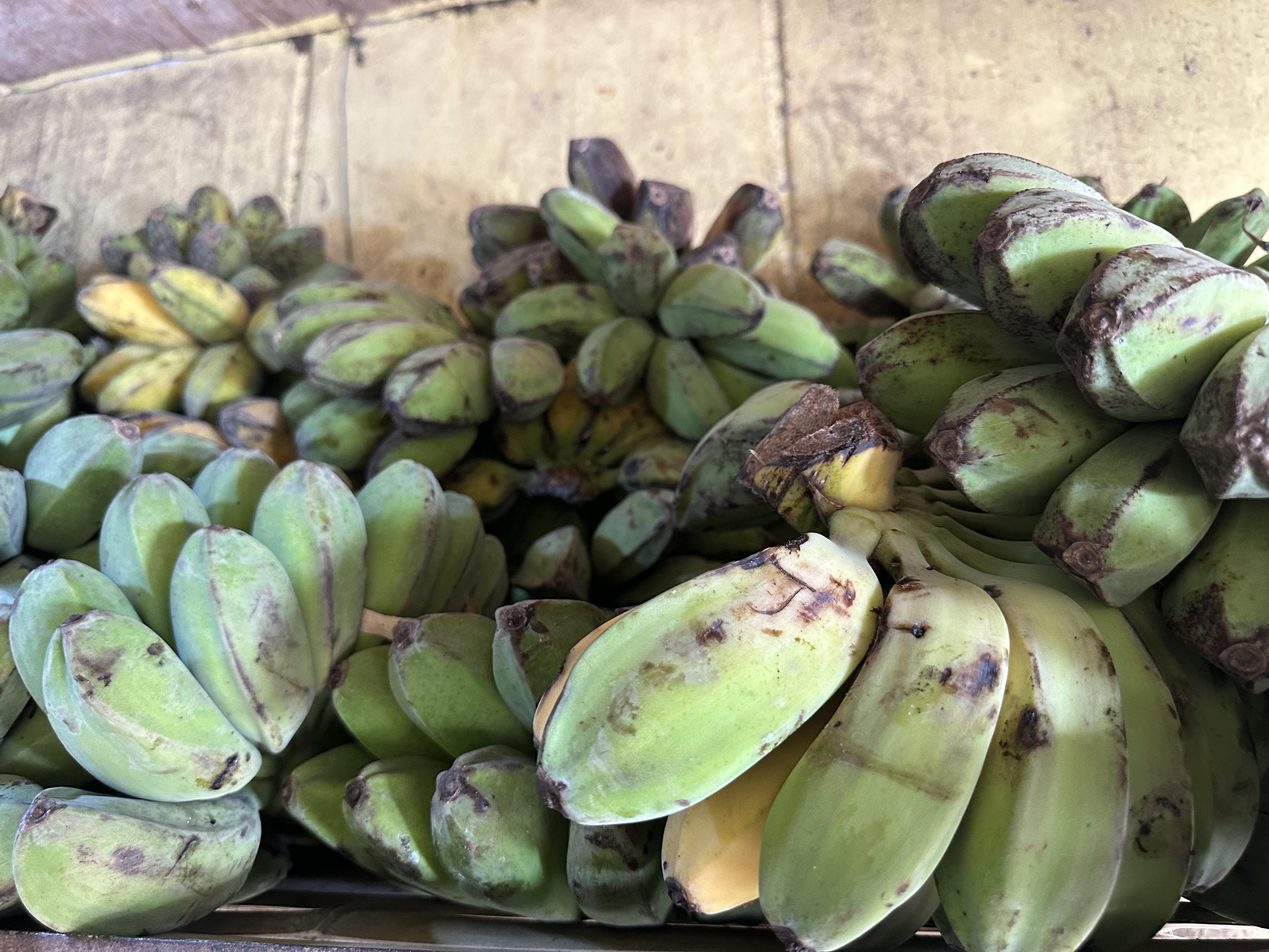underripe: (536, 534, 1258, 952), (10, 448, 507, 935), (857, 154, 1269, 693), (280, 600, 671, 926), (494, 188, 847, 439), (0, 415, 222, 740), (273, 280, 564, 479), (443, 361, 693, 520), (77, 266, 279, 416), (99, 190, 360, 303)
